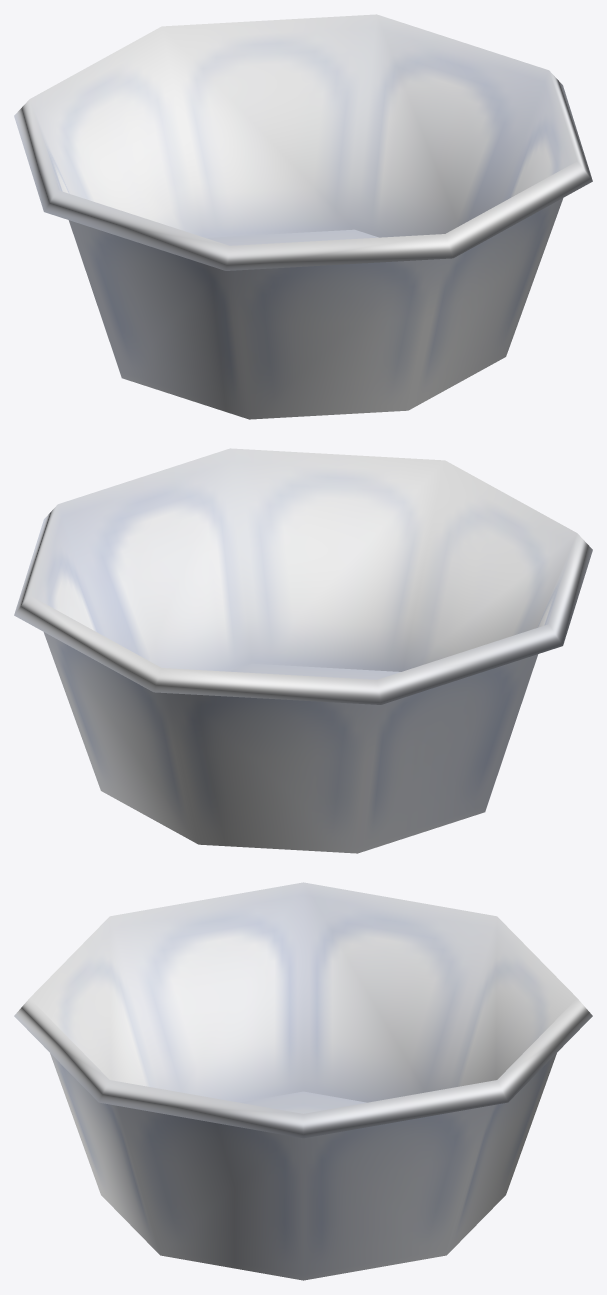
File: jsf_ShavedIceCup_01.fbx
3 views of the same model, one above another, from view 1: azimuth 30°, elevation 25°; view 2: azimuth 150°, elevation 25°; view 3: azimuth 270°, elevation 25° (orthographic). The views are drawn at different scales.
Parts seen in each view (by area): view 1: jsf_ShavedIceCup_01; view 2: jsf_ShavedIceCup_01; view 3: jsf_ShavedIceCup_01.
Part boxes in pixels (x1,y1,x2,y2): jsf_ShavedIceCup_01: (14, 14, 592, 419); jsf_ShavedIceCup_01: (14, 448, 592, 853); jsf_ShavedIceCup_01: (14, 882, 592, 1280).
Size of the model in its own units: 12 by 4.5 by 12.
